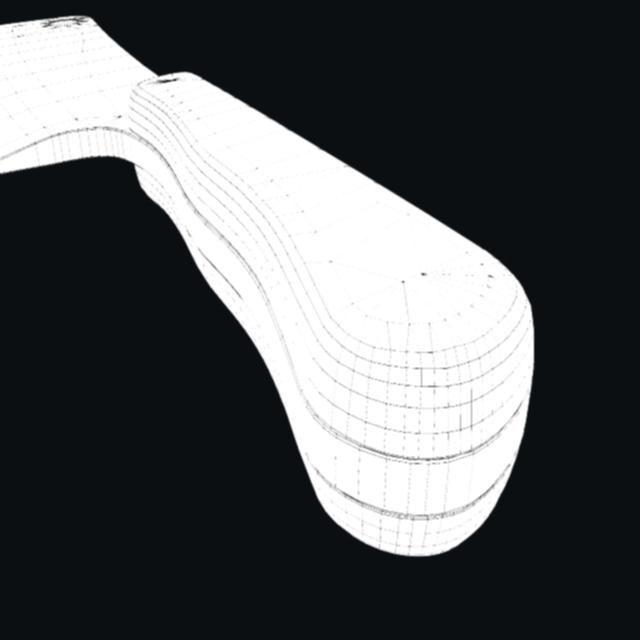cleaver: (0, 12, 536, 554)
